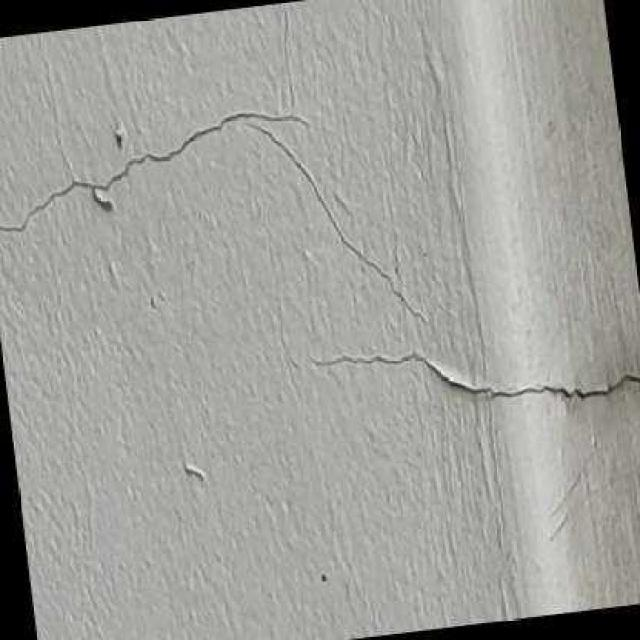D00: (0, 106, 416, 316), (325, 348, 640, 406)
